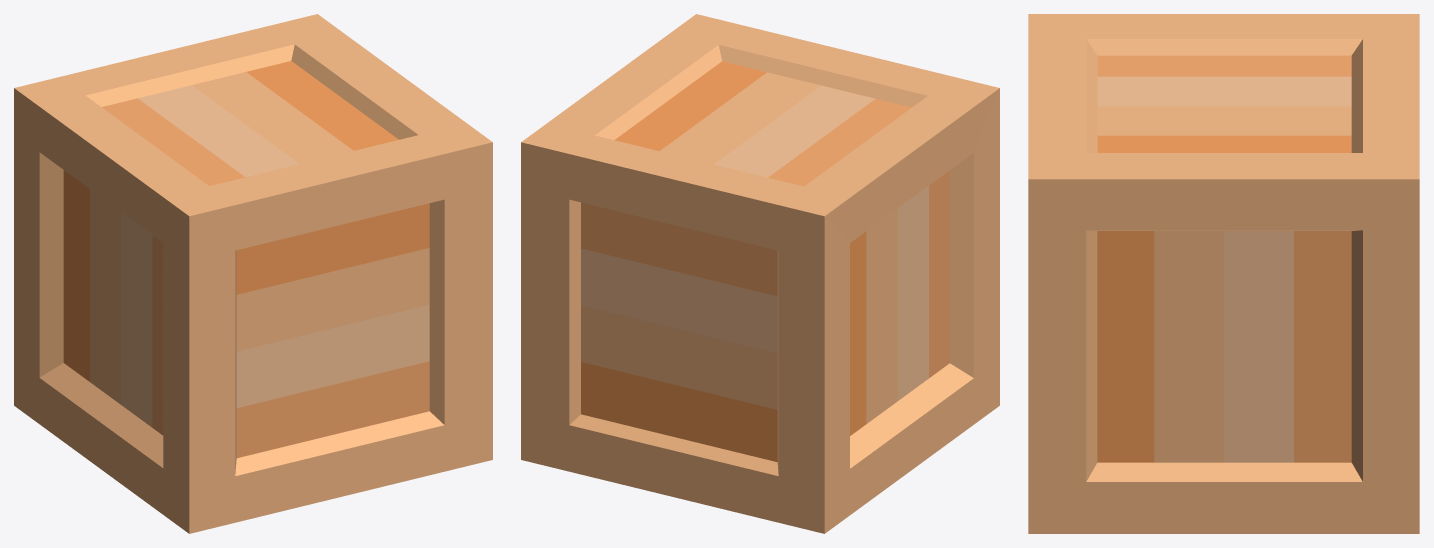
File: box_small_light.glb
3 renders of one model, left to right at view 1: azimuth 30°, elevation 25°; view 2: azimuth 150°, elevation 25°; view 3: azimuth 270°, elevation 25°, orthographic. The views are drawn at different scales.
Visible parts, largest first — view 1: box_009; view 2: box_009; view 3: box_009.
Part boxes in pixels (x1=…): box_009: x1=14, y1=14, x2=492, y2=533; box_009: x1=521, y1=14, x2=999, y2=533; box_009: x1=1028, y1=14, x2=1419, y2=533.
Size of the model in its own units: 0.6227 by 0.6227 by 0.6227.
Materials: 1 (1 with a texture image).
